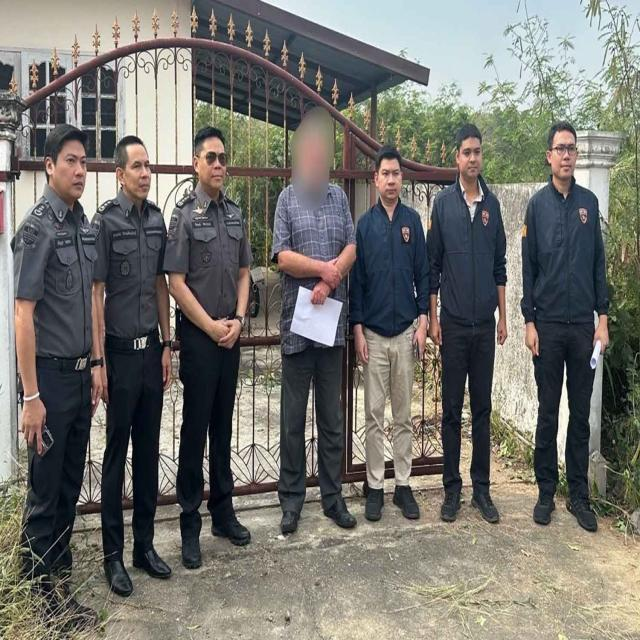bare_hand: (18, 394, 55, 458), (211, 318, 243, 351), (158, 339, 174, 392), (522, 324, 544, 359), (411, 325, 430, 363), (89, 369, 102, 420), (594, 321, 612, 356), (324, 262, 344, 291), (309, 281, 330, 308), (101, 362, 113, 408), (355, 336, 373, 365), (430, 316, 444, 347), (495, 316, 508, 348)
